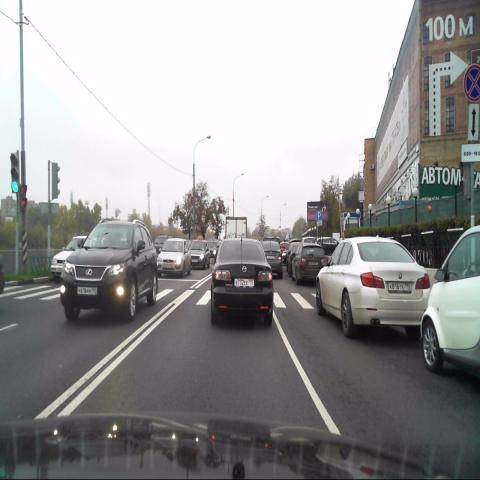8_2_4: (468, 103, 478, 140)
